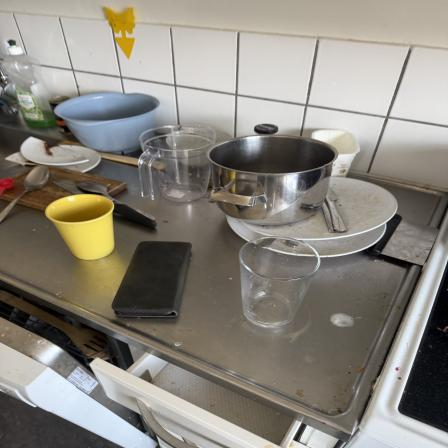phone: (114, 240, 192, 324)
yellow_cup: (46, 194, 120, 260)
